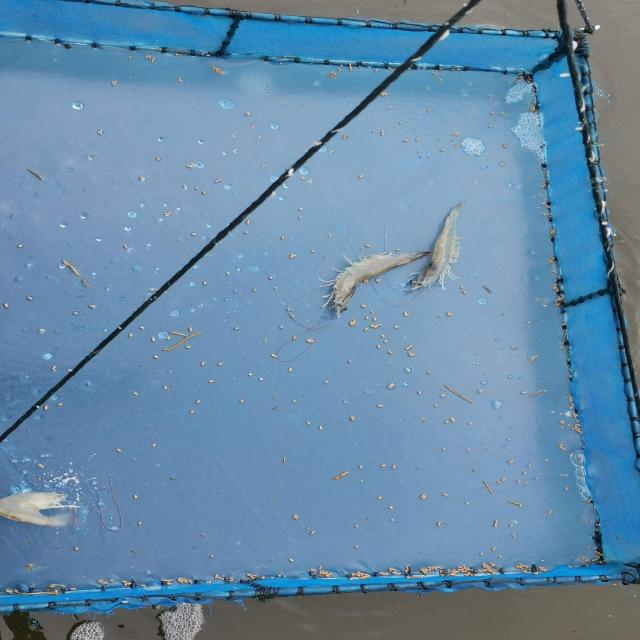Shrimp feeds: (446, 566, 474, 576), (212, 65, 225, 75), (378, 90, 390, 98), (515, 563, 529, 569), (557, 443, 567, 451), (497, 160, 507, 168), (404, 344, 413, 352), (538, 565, 548, 572), (509, 532, 519, 538), (406, 352, 416, 358), (109, 80, 119, 86), (120, 244, 130, 250), (303, 420, 313, 426), (546, 508, 554, 515), (137, 174, 145, 181), (346, 358, 354, 365), (370, 324, 381, 329), (507, 523, 516, 529), (154, 156, 163, 162), (241, 230, 250, 236), (375, 495, 385, 500), (307, 249, 317, 254), (358, 464, 365, 471), (365, 242, 372, 249), (449, 417, 457, 423), (489, 111, 497, 117), (231, 132, 239, 138), (56, 402, 65, 407), (3, 589, 14, 593), (349, 320, 356, 326), (50, 365, 57, 371), (3, 302, 10, 308), (255, 134, 262, 140), (187, 326, 194, 332), (87, 304, 97, 308), (387, 505, 395, 510), (374, 278, 382, 283), (386, 105, 394, 110), (248, 125, 256, 130), (249, 574, 255, 580), (421, 493, 427, 499), (559, 419, 565, 425), (386, 351, 395, 355), (502, 143, 508, 149), (232, 148, 238, 154), (181, 578, 188, 583), (132, 391, 139, 396), (208, 554, 215, 559), (414, 137, 421, 142), (348, 416, 355, 421), (273, 95, 280, 100), (233, 326, 240, 331), (291, 399, 298, 404), (402, 139, 410, 143), (271, 353, 277, 358), (437, 521, 442, 527), (44, 405, 49, 411), (526, 463, 532, 468), (343, 134, 349, 139), (380, 130, 385, 136), (437, 148, 447, 151), (358, 246, 364, 251), (487, 124, 493, 129), (278, 325, 284, 330), (494, 520, 498, 527), (151, 443, 158, 447), (380, 464, 387, 468), (390, 465, 397, 469), (267, 276, 274, 280), (404, 311, 409, 316), (491, 547, 496, 552), (564, 486, 569, 491), (309, 178, 314, 183), (281, 236, 286, 241), (217, 362, 223, 366), (308, 338, 314, 342), (361, 304, 367, 308), (446, 312, 452, 316), (38, 464, 44, 468), (183, 578, 189, 582), (440, 394, 446, 398), (195, 400, 201, 404), (75, 546, 79, 552), (389, 518, 395, 522), (508, 460, 514, 464), (534, 477, 540, 481), (472, 469, 478, 473), (521, 471, 527, 475), (297, 216, 303, 220), (438, 78, 444, 82), (452, 132, 459, 135), (128, 333, 133, 337), (154, 355, 159, 359), (214, 575, 219, 579), (310, 531, 315, 535), (294, 516, 299, 520), (359, 175, 364, 179), (98, 131, 103, 135), (240, 399, 245, 403), (190, 410, 195, 414), (246, 220, 251, 224), (299, 207, 304, 211), (187, 165, 193, 168), (215, 179, 221, 182), (442, 493, 448, 496), (377, 405, 383, 408), (353, 525, 359, 528), (496, 481, 502, 484), (201, 362, 205, 366), (288, 368, 292, 372), (293, 336, 297, 340), (365, 316, 369, 320), (99, 582, 107, 584), (189, 580, 193, 584), (318, 566, 322, 570), (319, 426, 323, 430), (418, 391, 422, 395), (502, 478, 506, 482), (372, 129, 376, 133), (360, 479, 364, 483), (442, 447, 446, 451), (500, 111, 504, 115), (152, 337, 155, 342), (306, 339, 311, 342), (166, 212, 171, 215), (117, 449, 122, 452), (98, 580, 103, 583), (311, 569, 316, 572), (289, 559, 294, 562), (292, 515, 297, 518), (522, 391, 527, 394), (432, 72, 437, 75), (245, 112, 250, 115), (247, 113, 252, 116), (273, 287, 278, 290), (140, 326, 144, 329), (166, 337, 170, 340), (209, 380, 213, 383), (249, 373, 253, 376), (259, 378, 263, 381), (364, 328, 368, 331), (384, 340, 388, 343), (463, 290, 466, 294), (190, 163, 194, 166), (134, 495, 138, 498), (122, 581, 128, 583), (127, 582, 131, 585), (141, 584, 145, 587), (177, 578, 181, 581), (179, 580, 183, 583), (319, 570, 322, 574), (566, 424, 570, 427), (302, 176, 305, 180), (186, 346, 191, 348), (192, 233, 197, 235), (206, 582, 211, 584), (324, 572, 329, 574), (332, 73, 337, 75), (461, 286, 464, 289), (203, 191, 206, 194), (204, 282, 207, 285), (139, 522, 142, 525), (395, 326, 399, 328), (438, 315, 442, 317), (164, 580, 172, 581), (229, 580, 233, 582), (322, 571, 324, 575), (99, 130, 103, 132), (290, 256, 294, 258), (293, 255, 297, 257), (374, 318, 376, 321), (378, 345, 380, 348), (382, 335, 385, 337), (125, 583, 127, 586), (218, 577, 221, 579), (221, 578, 224, 580), (355, 546, 358, 548), (184, 185, 186, 187), (230, 578, 234, 579), (247, 574, 249, 576), (291, 254, 293, 256)
